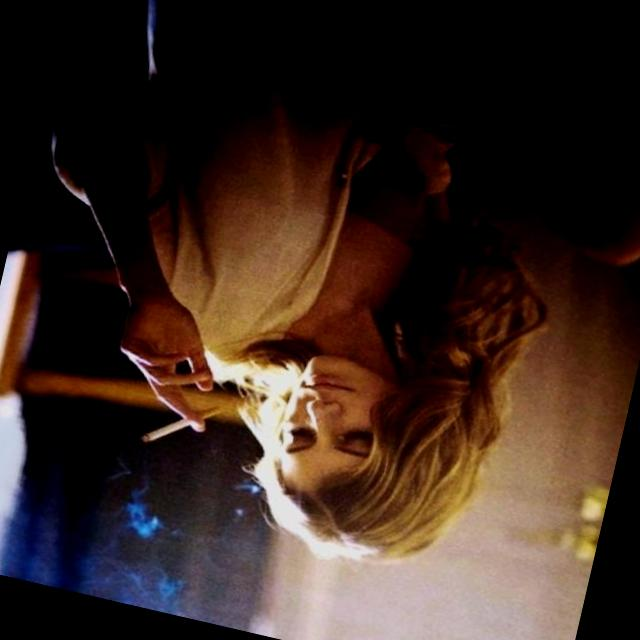cigarette: (119, 383, 218, 466)
